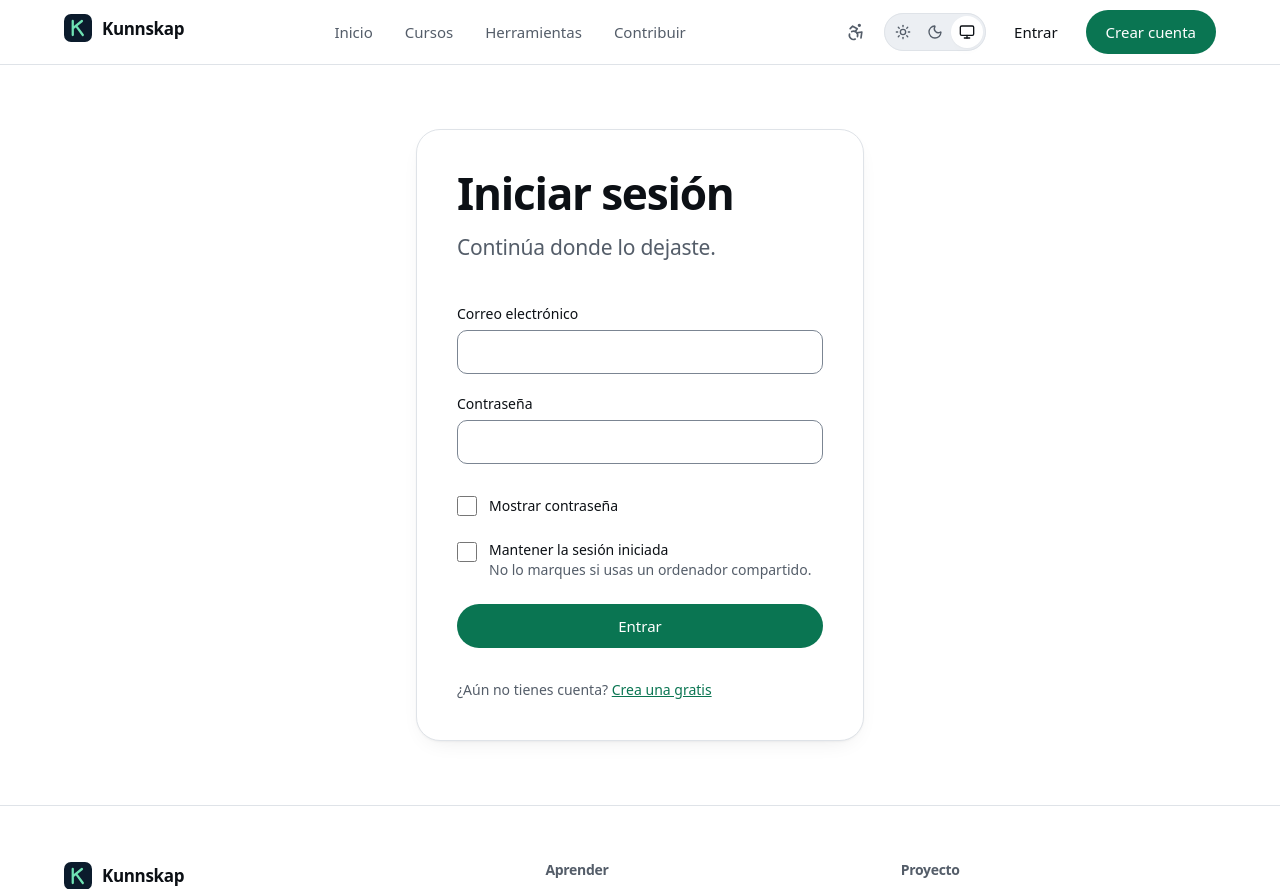
Test: inicio de sesión › envía el token antiforgery, actualiza la cabecera y vuelve a la ruta indicada
Check: the link "Entrar" is shown, box [1014,22,1058,42]
Type "ana@example.org" into the field labelled "Correo electrónico" at (640, 352), box [457,330,823,374]
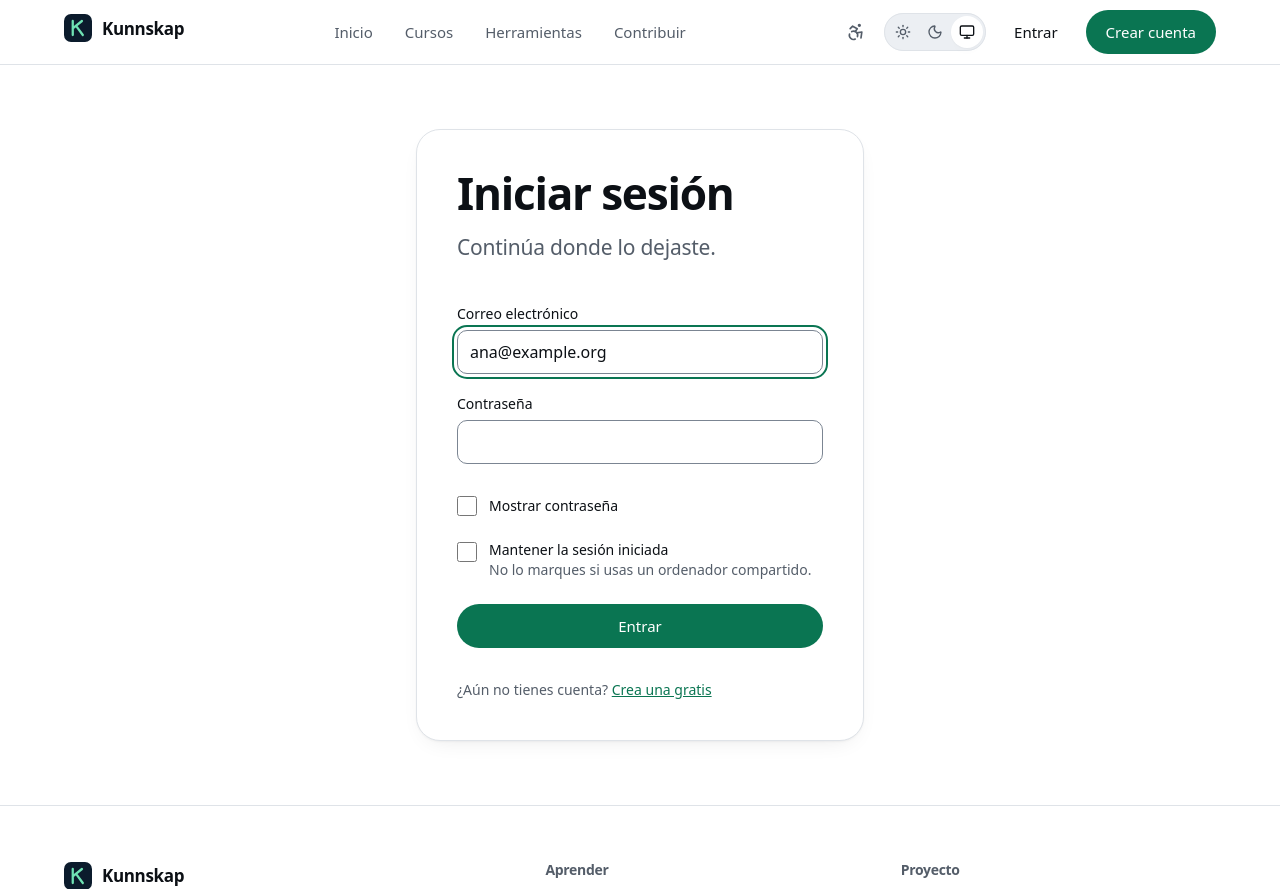
Type "una frase de prueba segura" into the password field labelled "Contraseña" at (640, 442), box [457,420,823,464]
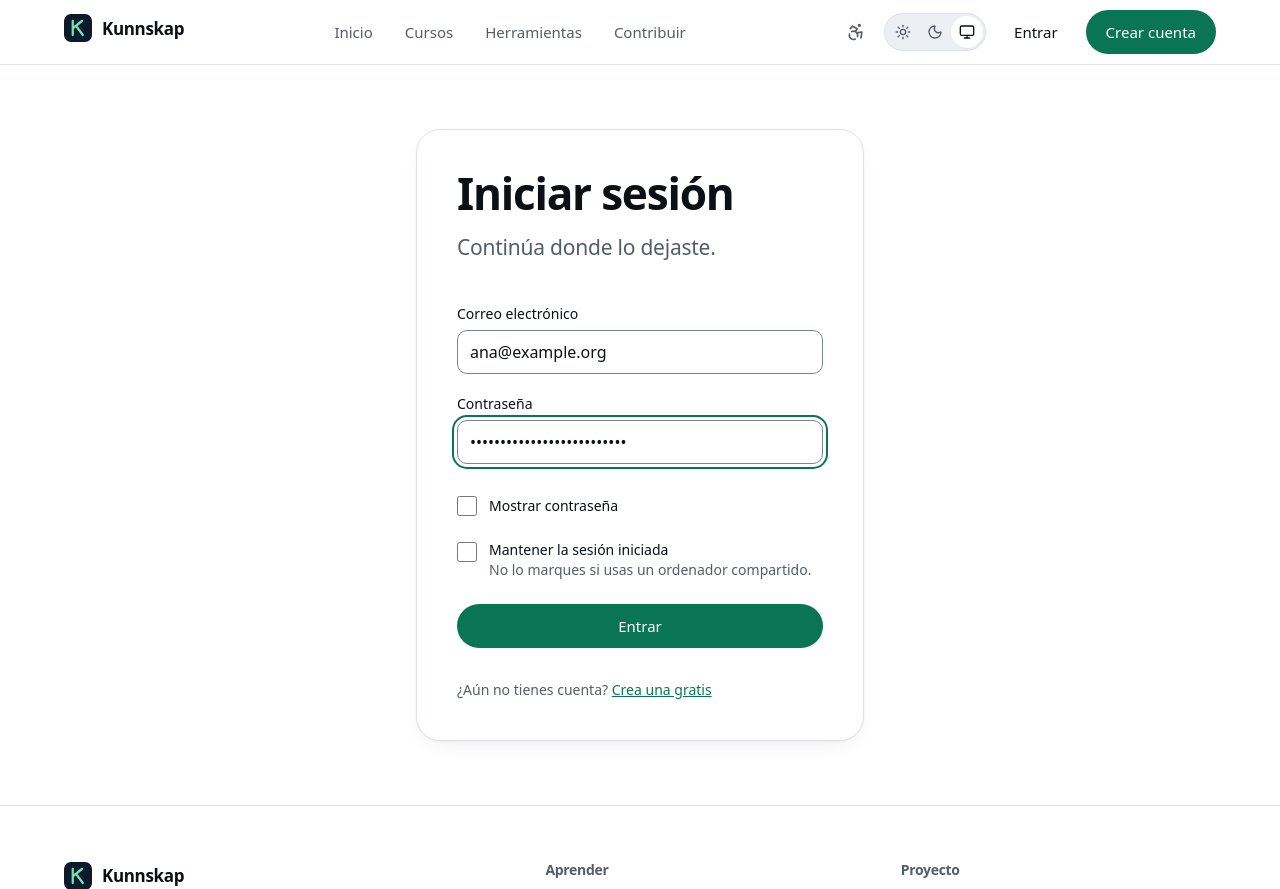
Click the button "Entrar" at (640, 626), box [457,604,823,648]
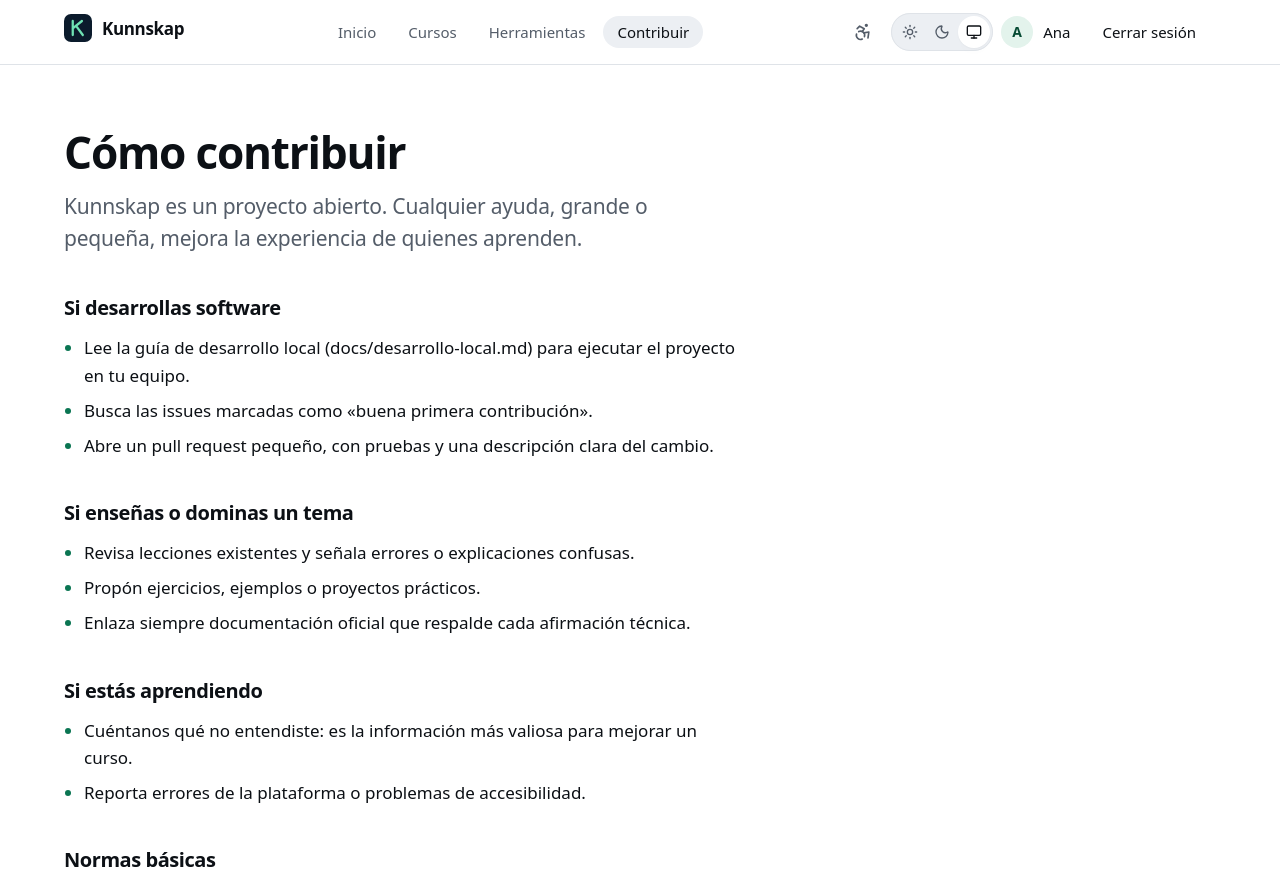
Check: the text "Ana" is shown, box [1043,22,1070,42]
